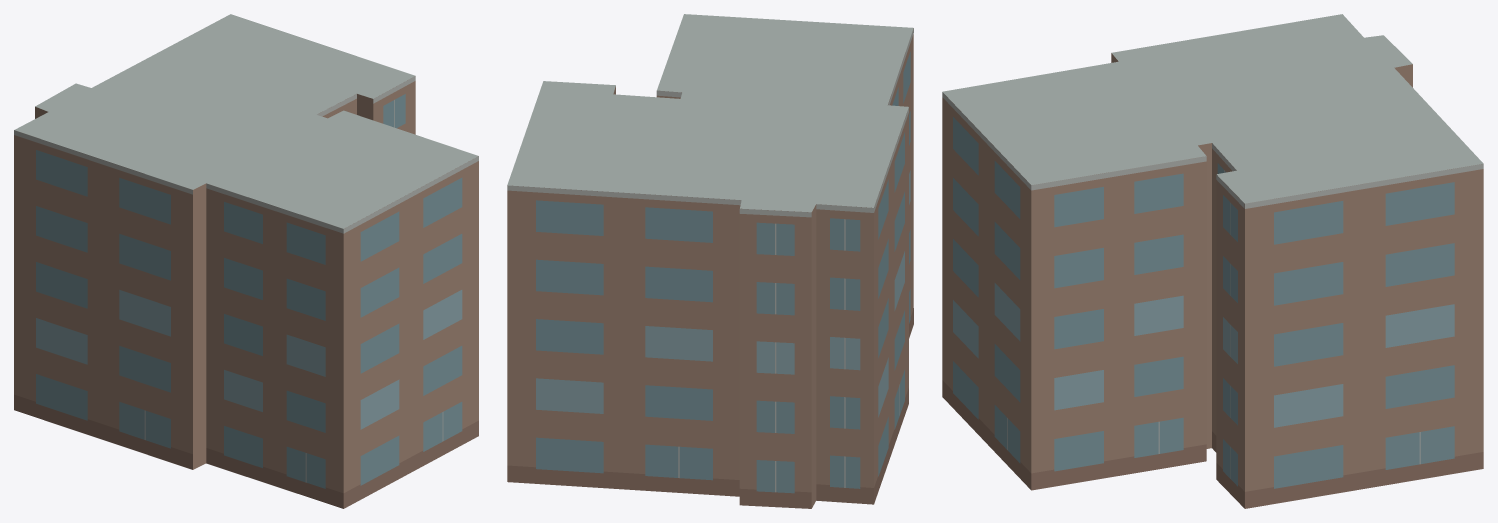
The model's file is survey-upis-32938960.glb.
3 views of the same model, side by side, from view 1: azimuth 30°, elevation 25°; view 2: azimuth 150°, elevation 25°; view 3: azimuth 270°, elevation 25° (orthographic). The views are drawn at different scales.
Visible parts, largest first — view 1: survey-upis-32938960.tmp; view 2: survey-upis-32938960.tmp; view 3: survey-upis-32938960.tmp.
Boxes of the visible parts, left/top/right/bottom form: survey-upis-32938960.tmp: left=14, top=14, right=478, bottom=508; survey-upis-32938960.tmp: left=507, top=14, right=913, bottom=508; survey-upis-32938960.tmp: left=942, top=14, right=1483, bottom=508.
Size of the model in its own units: 18.81 by 14.1 by 22.68.
